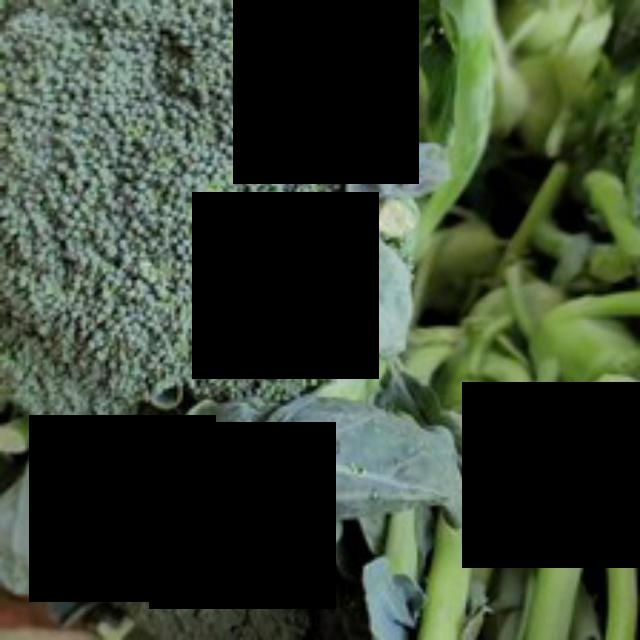broccoli: (0, 0, 402, 468)
